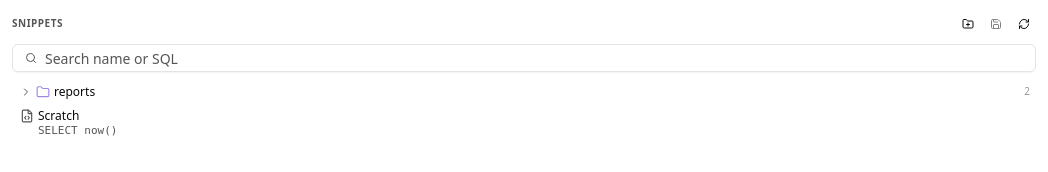
Test case: SnippetsPanel › filters on both name and SQL, revealing hits inside collapsed folders
Expected: the text "reports" is shown, [54, 83, 95, 100]
In the field with placeholder "Search name or SQL": (536, 58) [37, 44, 1035, 72], type "scratch"
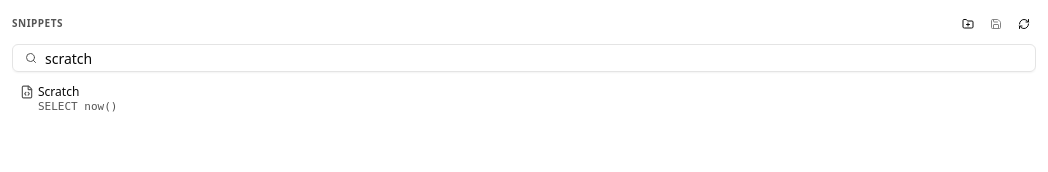
Expected: the text "Scratch" is shown, [38, 83, 79, 100]
Expected: the button "reports" is gone
Replace the text in the field with placeholder "Search name or SQL" with "orders": (536, 58) [37, 44, 1035, 72]
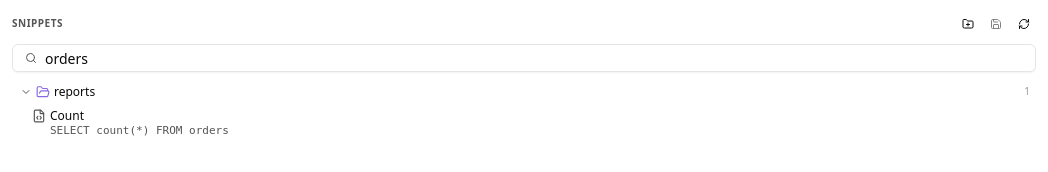
Expected: the text "reports" is shown, [54, 83, 95, 100]
Expected: the text "Count" is shown, [50, 107, 84, 124]
Expected: the text "Scratch" is gone
